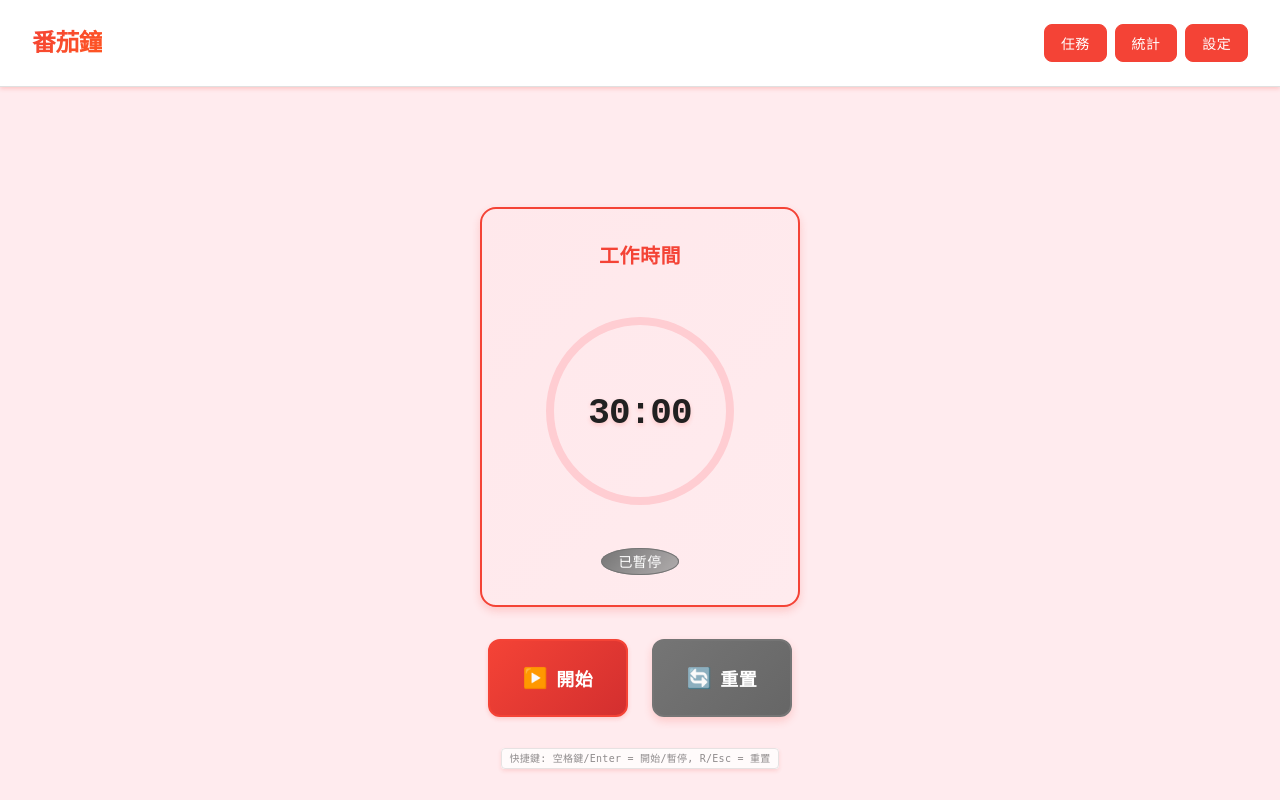
Scenario: Integration Tests - Extended User Workflows › 完整番茄鐘使用流程 › should persist data across sessions
The image size is (1280, 800).
Expected: the text "30:00" is shown, top-left (588, 387), bottom-right (692, 441)
# 驗證設定面板顯示正確的值
Step 1. Click the button "設定" → {"x": 1217, "y": 43}, box top-left (1185, 24), bottom-right (1248, 62)
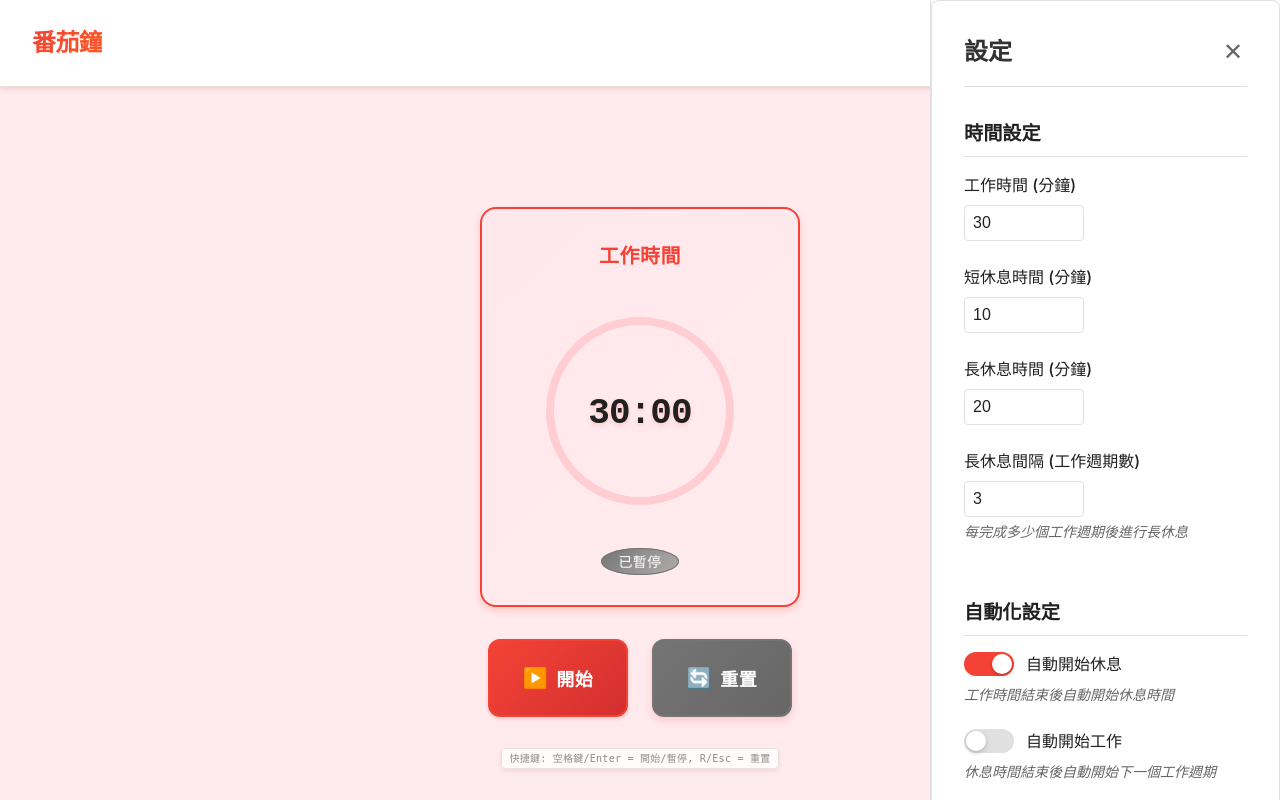
Expected: the number field showing "30" is shown, top-left (964, 205), bottom-right (1084, 241)
